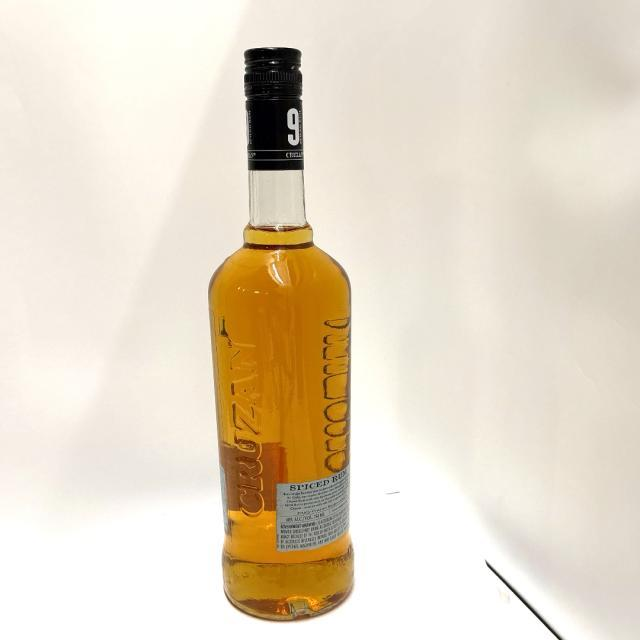CRUZAN-9-SPICED-RUM-750ML: (206, 46, 354, 630)
